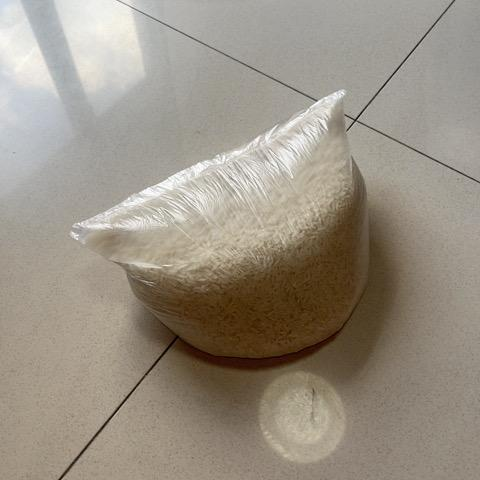rice: (74, 88, 372, 364)
